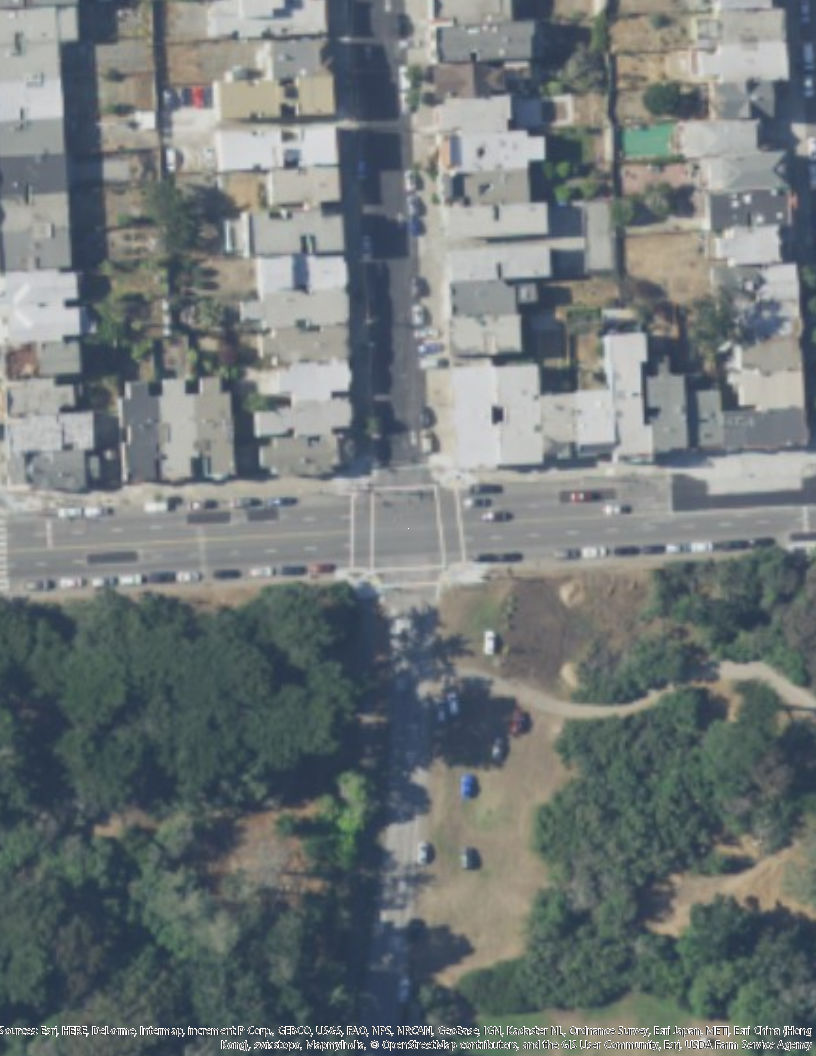zebracross: (1, 511, 8, 584)
